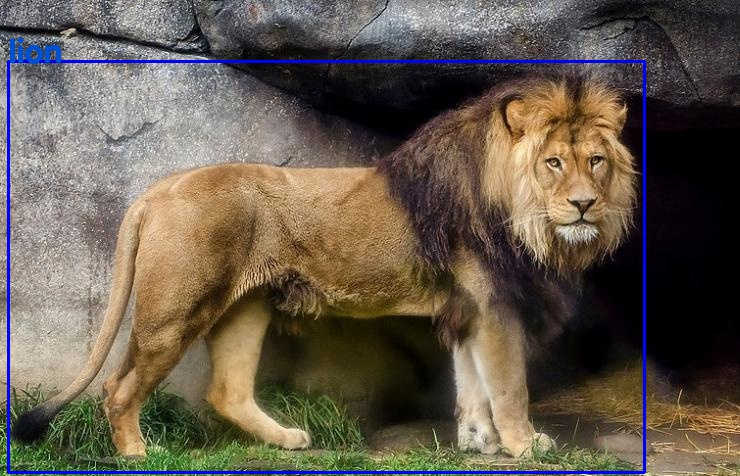lion: (8, 61, 644, 471)
